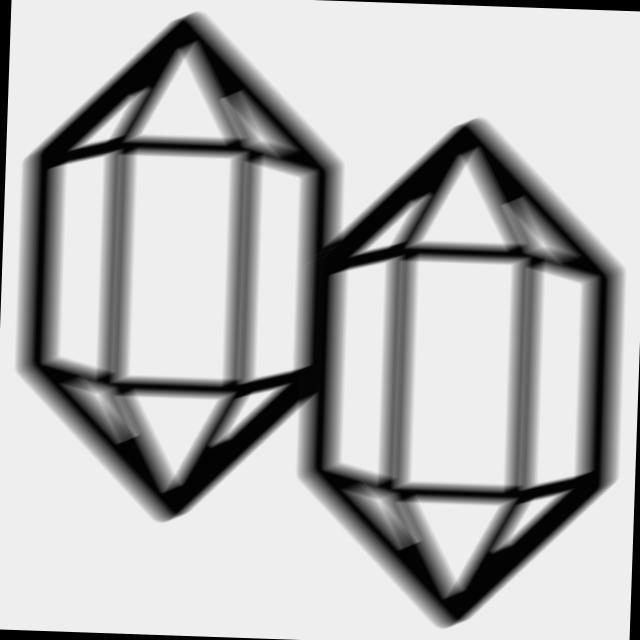crystal: (281, 105, 640, 640), (1, 1, 356, 540)
